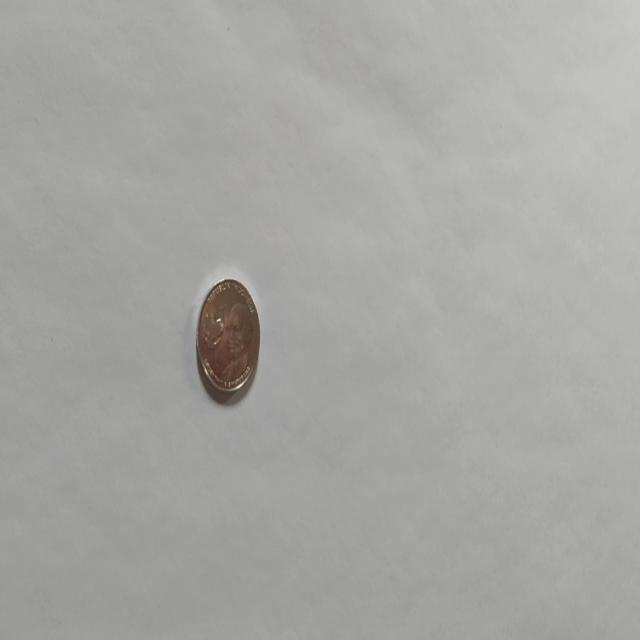lima ratus rupiah: (196, 276, 260, 398)
